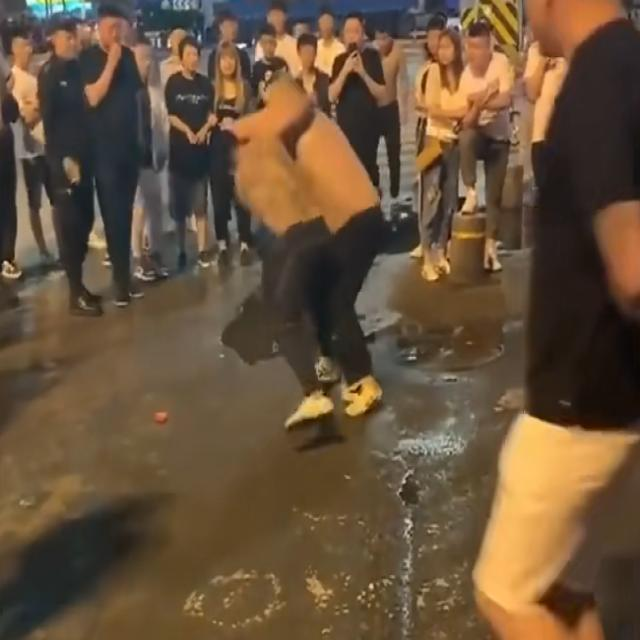fight: (223, 77, 393, 388)
nofight: (35, 16, 99, 314), (456, 13, 517, 273), (92, 9, 138, 316), (165, 45, 215, 282), (422, 25, 462, 298)
